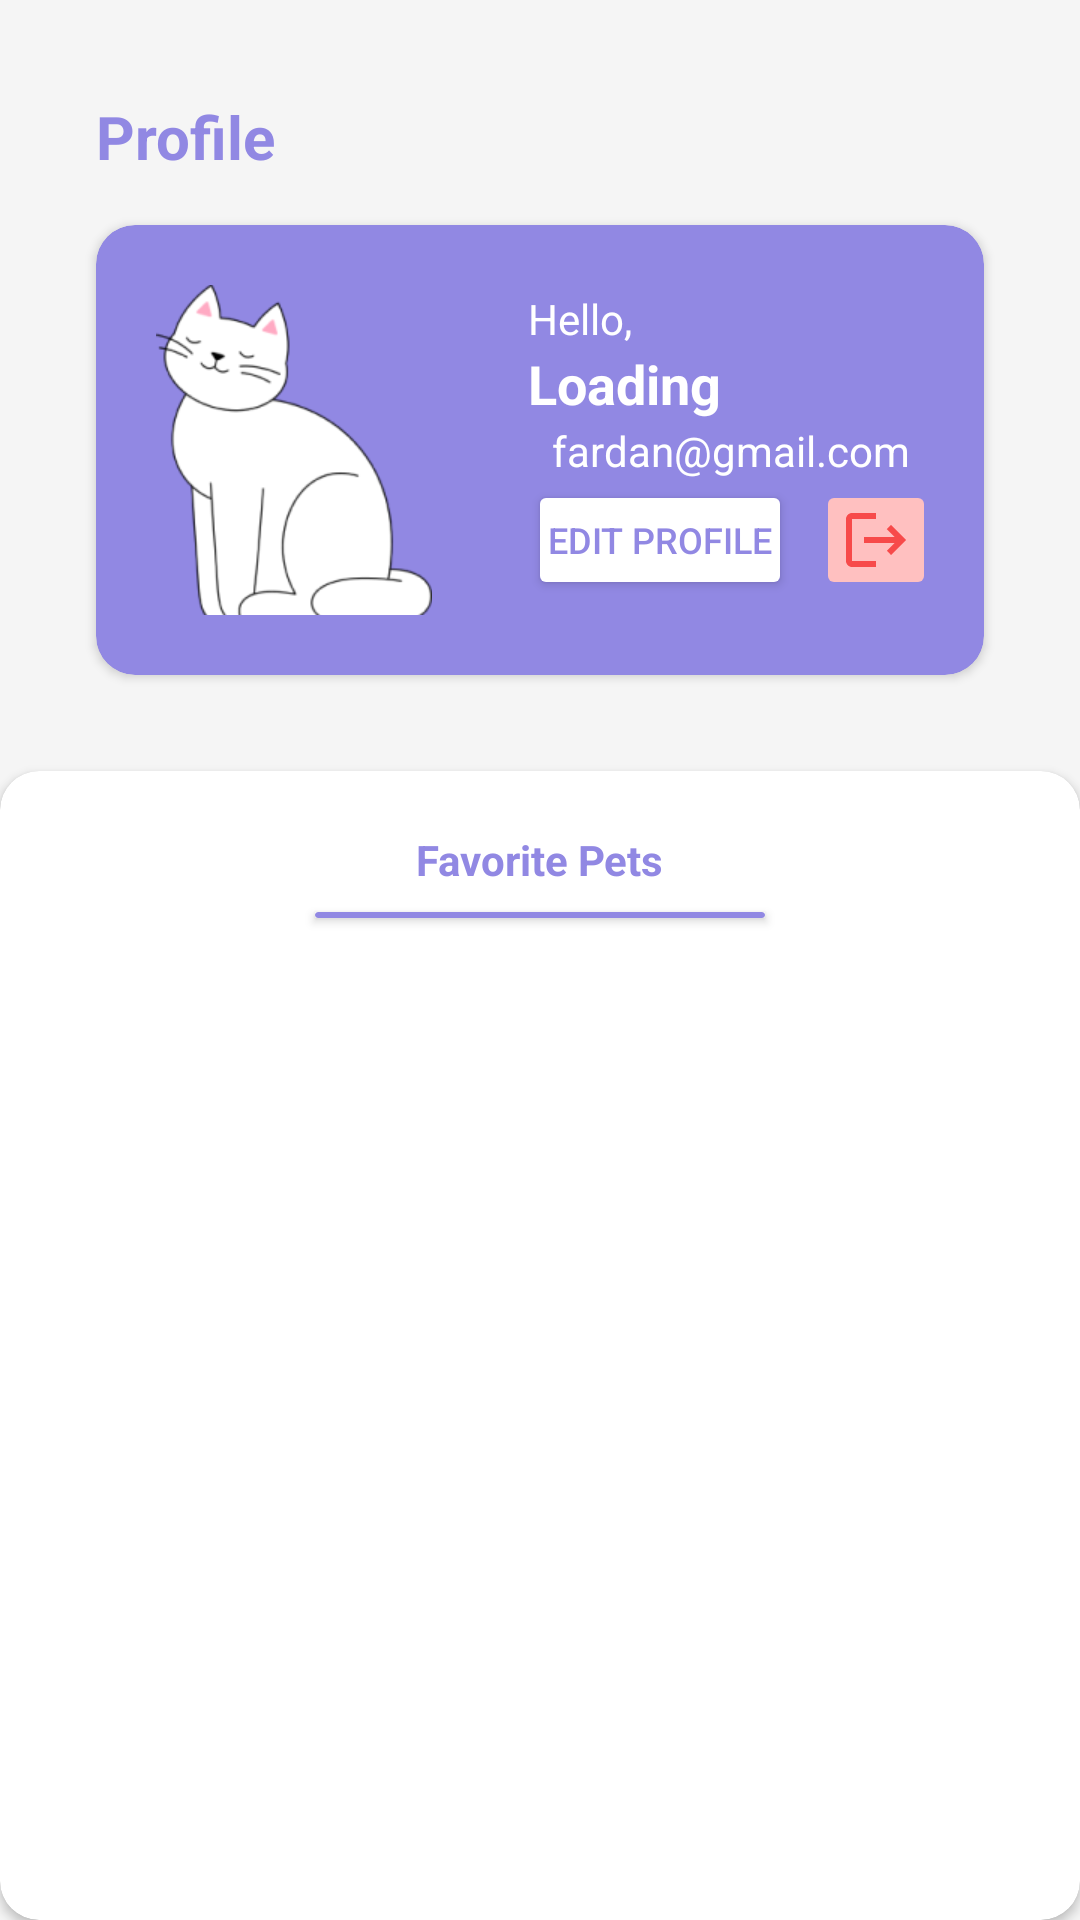

Icons on this 1080px x 1920px Android screen, each with the point to tap as (x=x, y=y):
cat: (x=294, y=450)
